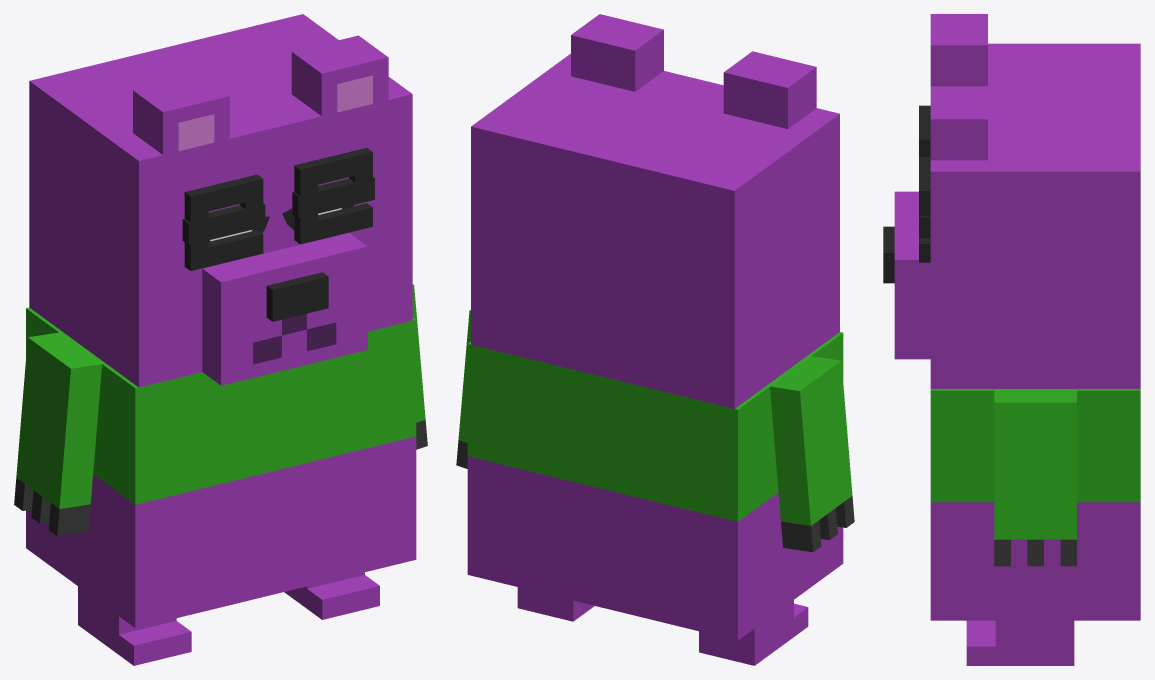
3 renders of one model, left to right at view 1: azimuth 30°, elevation 25°; view 2: azimuth 150°, elevation 25°; view 3: azimuth 270°, elevation 25°, orthographic. The views are drawn at different scales.
Parts seen in each view (by area): view 1: Ch_07_Head, Ch_07, Ch_07_Hand_L, Ch_07_Eye_03_L, Ch_07_Eye_03_R, Ch_07_Leg_L, Ch_07_Eye_02, Ch_07_Leg_R, Ch_07_Hand_R; view 2: Ch_07_Head, Ch_07, Ch_07_Hand_L, Ch_07_Leg_L, Ch_07_Leg_R, Ch_07_Hand_R; view 3: Ch_07_Head, Ch_07, Ch_07_Hand_R, Ch_07_Leg_R, Ch_07_Eye_03_R, Ch_07_Eye_03_L.
Part boxes in pixels (x1,y1,x2,y2): Ch_07_Head: (29, 14, 412, 387); Ch_07: (26, 307, 416, 628); Ch_07_Hand_L: (14, 332, 101, 536); Ch_07_Eye_03_L: (184, 174, 263, 270); Ch_07_Eye_03_R: (294, 147, 372, 244); Ch_07_Leg_L: (78, 586, 191, 665); Ch_07_Eye_02: (182, 177, 374, 244); Ch_07_Leg_R: (284, 572, 379, 619); Ch_07_Hand_R: (412, 284, 427, 449); Ch_07_Head: (471, 14, 839, 408); Ch_07: (467, 332, 843, 640); Ch_07_Hand_L: (770, 356, 854, 552); Ch_07_Leg_L: (699, 600, 808, 665); Ch_07_Leg_R: (517, 587, 594, 621); Ch_07_Hand_R: (456, 309, 470, 468); Ch_07_Head: (883, 14, 1140, 388); Ch_07: (930, 389, 1140, 620); Ch_07_Hand_R: (994, 390, 1076, 566); Ch_07_Leg_R: (966, 620, 1074, 665); Ch_07_Eye_03_R: (919, 157, 930, 262); Ch_07_Eye_03_L: (919, 105, 930, 156).
Bounding box in the file's own units: 8.52 × 12.41 × 5.34.
